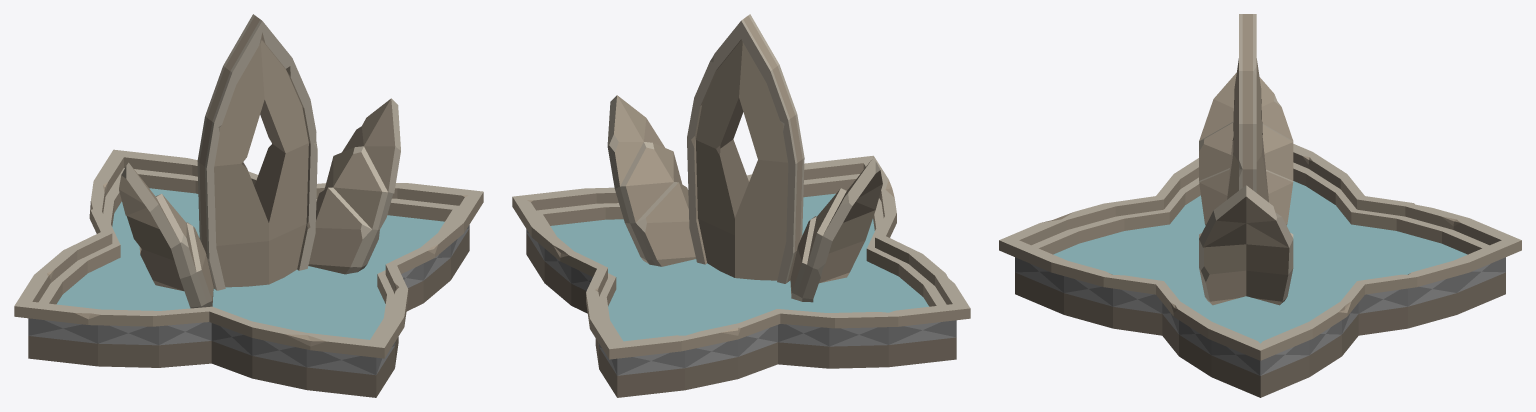
File: Fountain_02.glb
3 views of the same model, side by side, from view 1: azimuth 30°, elevation 25°; view 2: azimuth 150°, elevation 25°; view 3: azimuth 270°, elevation 25° (orthographic). The views are drawn at different scales.
Visible parts, largest first — view 1: Fountain_02; view 2: Fountain_02; view 3: Fountain_02.
Part boxes in pixels (x1=…): Fountain_02: x1=14, y1=14, x2=483, y2=397; Fountain_02: x1=512, y1=14, x2=970, y2=397; Fountain_02: x1=999, y1=14, x2=1521, y2=397.
Size of what is drawn, in the model's own units: 9.87 by 5.86 by 9.87.
Materials: 1 (1 with a texture image).
